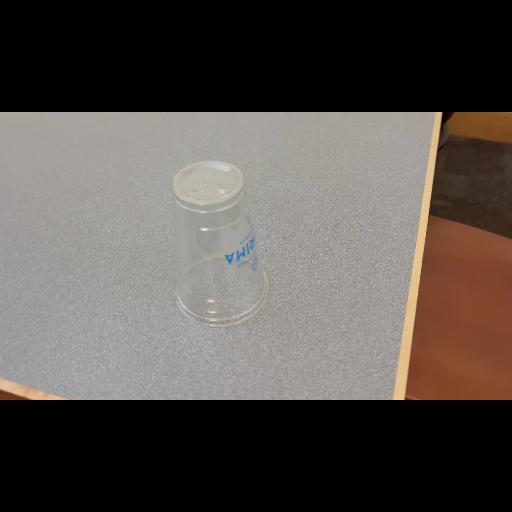lp_plastic_cup: (166, 158, 274, 328)
